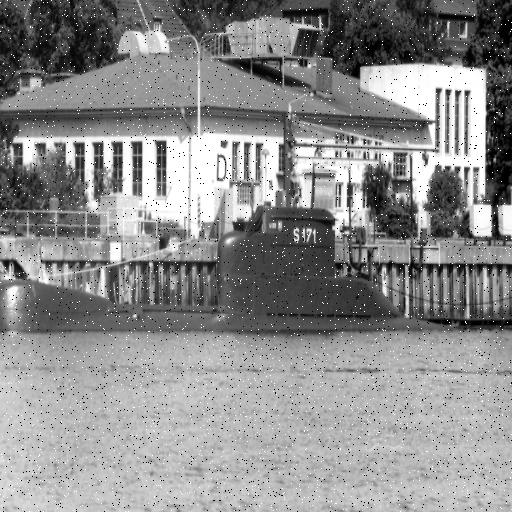submarine: (1, 141, 463, 333)
